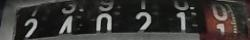digits: (129, 1, 157, 39), (208, 4, 236, 39), (170, 0, 196, 32), (92, 1, 114, 34), (58, 15, 73, 33), (24, 17, 37, 37)
